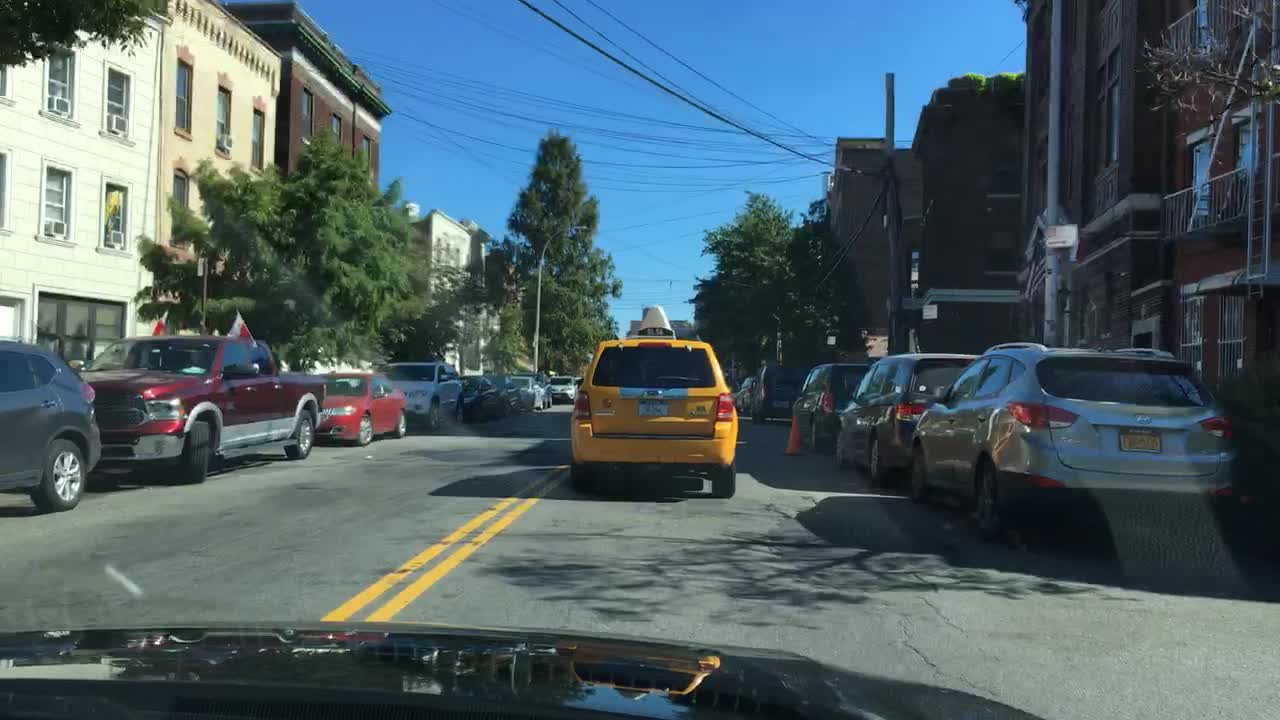car: (903, 342, 1243, 545), (566, 303, 741, 504), (834, 353, 982, 487), (0, 339, 103, 513), (789, 361, 867, 453), (314, 372, 411, 445), (386, 359, 469, 431), (747, 365, 811, 424), (460, 372, 500, 419), (512, 373, 552, 407), (486, 373, 518, 412), (547, 375, 576, 402), (735, 376, 756, 412), (570, 375, 583, 384)
traffic sign: (1046, 223, 1076, 247), (868, 335, 888, 353), (918, 304, 937, 319), (827, 333, 837, 346)
truck: (74, 332, 326, 485)
